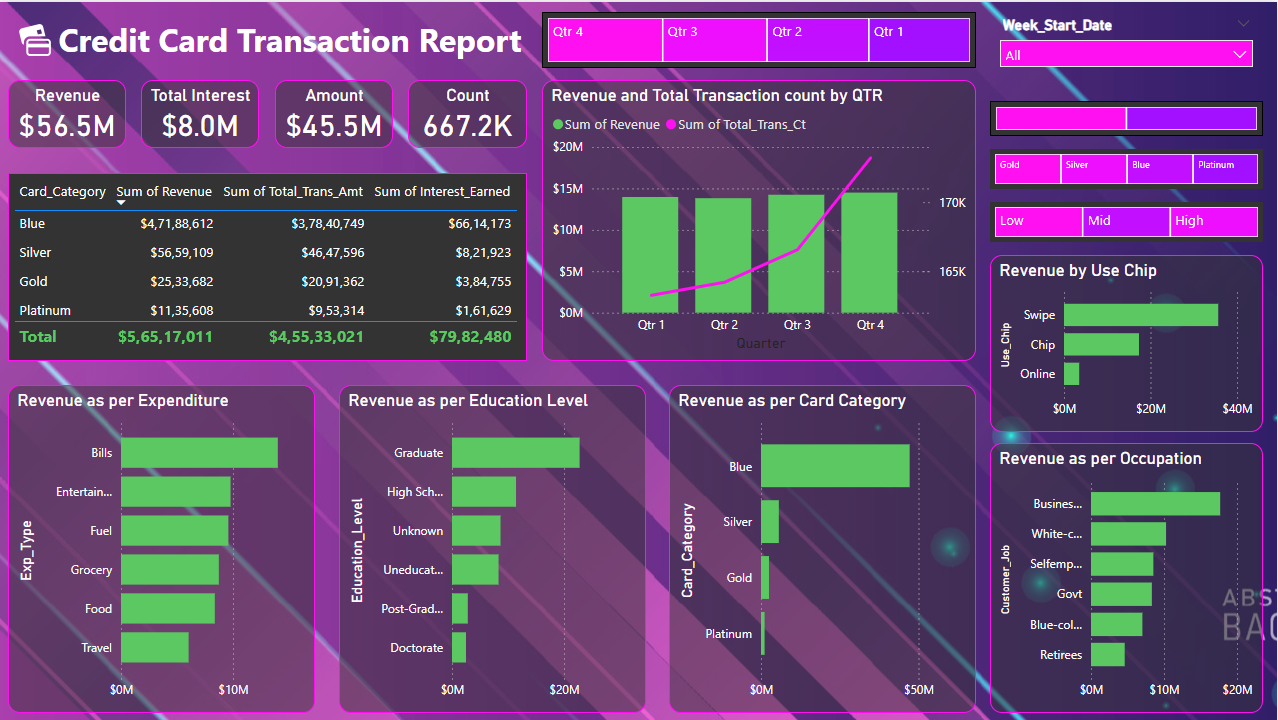

Layout of this report page (visuals, bound fields, positions):
{"tool":"powerbi","page":{"name":"My_cc_transaction","canvas":[1280,720],"ordinal":3},"visuals":[{"type":"textbox","box":[10.6,9.8,519.6,55.9],"z":0},{"type":"lineClusteredColumnComboChart","title":"Revenue and Total Transaction count by QTR","fields":{"Category":["cc_detail.Week_Start_Date.Variation.Date Hierarchy.Quarter"],"Y":["Sum(cc_detail.Revenue)"],"Y2":["Sum(cc_detail.Total_Trans_Ct)"]},"box":[545.3,78,433.6,281.1],"z":1000},{"type":"clusteredBarChart","title":"Revenue as per Expenditure","fields":{"Category":["cc_detail.Exp_Type"],"Y":["Sum(cc_detail.Revenue)"]},"box":[10.6,383.1,307.7,328.1],"z":2000},{"type":"clusteredBarChart","title":"Revenue as per Education Level","fields":{"Category":["cust_detail.Education_Level"],"Y":["Sum(cc_detail.Revenue)"]},"box":[342.3,383.1,306.8,328.1],"z":3000},{"type":"clusteredBarChart","title":"Revenue as per Card Category","fields":{"Category":["cc_detail.Card_Category"],"Y":["Sum(cc_detail.Revenue)"]},"box":[672.1,383.1,306.8,328.1],"z":4000},{"type":"clusteredBarChart","title":"Revenue as per Occupation","fields":{"Category":["cust_detail.Customer_Job"],"Y":["Sum(cc_detail.Revenue)"]},"box":[993.1,440.7,273.1,270.4],"z":5000},{"type":"clusteredBarChart","title":"Revenue by Use Chip","fields":{"Y":["Sum(cc_detail.Revenue)"],"Category":["cc_detail.Use_Chip"]},"box":[993.1,252.7,273.1,177.3],"z":6000},{"type":"tableEx","fields":{"Values":["cc_detail.Card_Category","Sum(cc_detail.Revenue)","Sum(cc_detail.Total_Trans_Amt)","Sum(cc_detail.Interest_Earned)"]},"box":[10.6,171.1,519.6,188],"z":7000},{"type":"card","title":"Revenue","fields":{"Values":["Sum(cc_detail.Revenue)"]},"box":[10.6,78,117.9,68.3],"z":8000},{"type":"card","title":"Total Interest","fields":{"Values":["Sum(cc_detail.Interest_Earned)"]},"box":[144.2,78,117.9,68.3],"z":9000},{"type":"card","title":"Amount","fields":{"Values":["Sum(cc_detail.Total_Trans_Amt)"]},"box":[277.8,78,117.9,68.3],"z":10000},{"type":"card","title":"Count","fields":{"Values":["Sum(cc_detail.Total_Trans_Ct)"]},"box":[411.4,78,118.8,68.3],"z":11000},{"type":"slicer","fields":{"Values":["cc_detail.Week_Start_Date"]},"box":[993.1,9.8,273.1,76.3],"z":12000},{"type":"treemap","fields":{"Group":["cc_detail.Week_Start_Date.Variation.Date Hierarchy.Quarter"],"Values":["Avg(cust_detail.Client_Num)"]},"box":[545.3,9.8,433.6,55.9],"z":13000},{"type":"treemap","fields":{"Group":["cust_detail.Gender"],"Values":["Avg(cust_detail.Client_Num)"]},"box":[993.1,99,273.1,35.5],"z":14000},{"type":"treemap","fields":{"Group":["cc_detail.Card_Category"],"Values":["Avg(cust_detail.Client_Num)"]},"box":[993.1,147.5,273.1,39.9],"z":15000},{"type":"treemap","fields":{"Group":["cust_detail.Income_Group"],"Values":["Avg(cust_detail.Client_Num)"]},"box":[993.1,200.4,273.1,39.9],"z":16000},{"type":"actionButton","box":[17.7,17.7,52.3,39.9],"z":17000}]}

Visuals, with their boxes in screenshot pixels (x1, y1, x2, y2), scaled from the page's 1280x720 canvas onto the 1278x720 screenshot:
textbox: locate(11, 10, 529, 66)
"Revenue and Total Transaction count by QTR" lineClusteredColumnComboChart: locate(544, 78, 977, 359)
"Revenue as per Expenditure" clusteredBarChart: locate(11, 383, 318, 711)
"Revenue as per Education Level" clusteredBarChart: locate(342, 383, 648, 711)
"Revenue as per Card Category" clusteredBarChart: locate(671, 383, 977, 711)
"Revenue as per Occupation" clusteredBarChart: locate(992, 441, 1264, 711)
"Revenue by Use Chip" clusteredBarChart: locate(992, 253, 1264, 430)
tableEx - cc_detail.Card_Category x Sum(cc_detail.Revenue): locate(11, 171, 529, 359)
"Revenue" card: locate(11, 78, 128, 146)
"Total Interest" card: locate(144, 78, 262, 146)
"Amount" card: locate(277, 78, 395, 146)
"Count" card: locate(411, 78, 529, 146)
slicer - cc_detail.Week_Start_Date: locate(992, 10, 1264, 86)
treemap - cc_detail.Week_Start_Date.Variation.Date Hierarchy.Quarter x Avg(cust_detail.Client_Num): locate(544, 10, 977, 66)
treemap - cust_detail.Gender x Avg(cust_detail.Client_Num): locate(992, 99, 1264, 134)
treemap - cc_detail.Card_Category x Avg(cust_detail.Client_Num): locate(992, 148, 1264, 187)
treemap - cust_detail.Income_Group x Avg(cust_detail.Client_Num): locate(992, 200, 1264, 240)
actionButton: locate(18, 18, 70, 58)
